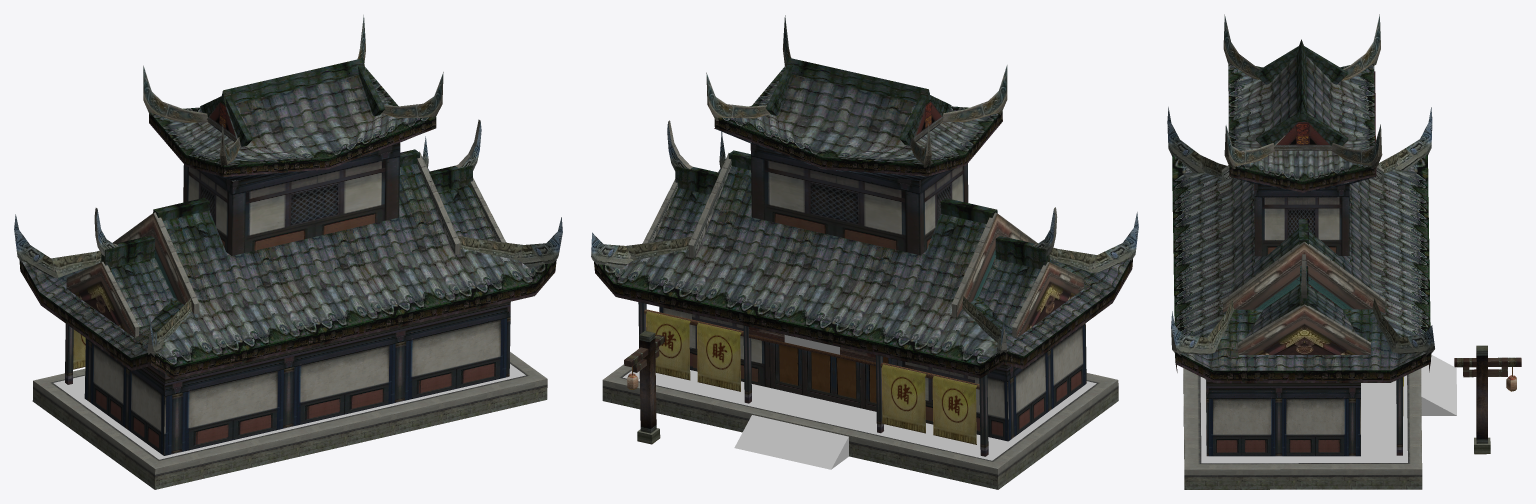
File: Hourse01.FBX
The picture shows the model from 3 angles, left to right: view 1: azimuth 30°, elevation 25°; view 2: azimuth 150°, elevation 25°; view 3: azimuth 270°, elevation 25°; orthographic projection. The views are drawn at different scales.
Parts seen in each view (by area): view 1: 对象262, 对象279, 对象863, 对象294, 对象599, 对象260, 对象261, 对象860, 对象271, 对象273; view 2: 对象262, 对象863, 对象599, 对象294, 对象260, 对象279, 对象271, 对象274, 对象261, 对象860, 对象272, Plane01 (+9 smaller); view 3: 对象262, 对象863, 对象279, 对象294, 对象261, 对象260, 对象599, 对象271, 对象860, 对象272, 对象290, 对象285 (+2 smaller).
Boxes of the visible parts, <box> form: 对象262: <box>19,149,556,379</box>; 对象279: <box>84,304,510,455</box>; 对象863: <box>149,58,436,176</box>; 对象294: <box>32,352,547,489</box>; 对象599: <box>183,136,400,255</box>; 对象260: <box>14,119,562,356</box>; 对象261: <box>66,213,194,337</box>; 对象860: <box>143,15,443,180</box>; 对象271: <box>53,364,525,459</box>; 对象273: <box>144,301,510,383</box>; 对象262: <box>594,150,1132,378</box>; 对象863: <box>714,57,1002,176</box>; 对象599: <box>750,136,968,255</box>; 对象294: <box>602,364,1118,489</box>; 对象260: <box>591,120,1138,354</box>; 对象279: <box>659,307,1086,441</box>; 对象271: <box>623,370,1096,460</box>; 对象274: <box>769,342,897,411</box>; 对象261: <box>957,213,1083,337</box>; 对象860: <box>706,15,1007,180</box>; 对象272: <box>734,415,848,469</box>; Plane01: <box>881,364,926,433</box>; 对象262: <box>1172,154,1431,383</box>; 对象863: <box>1228,39,1375,192</box>; 对象279: <box>1205,379,1360,456</box>; 对象294: <box>1183,368,1422,489</box>; 对象261: <box>1223,242,1385,354</box>; 对象260: <box>1167,107,1434,355</box>; 对象599: <box>1254,122,1349,256</box>; 对象271: <box>1200,375,1407,463</box>; 对象860: <box>1223,14,1382,192</box>; 对象272: <box>1421,354,1456,415</box>; 对象290: <box>1476,347,1487,443</box>; 对象285: <box>1454,357,1521,391</box>.
Size of what is drawn, in the model's own units: 22.72 by 17.58 by 17.09.
